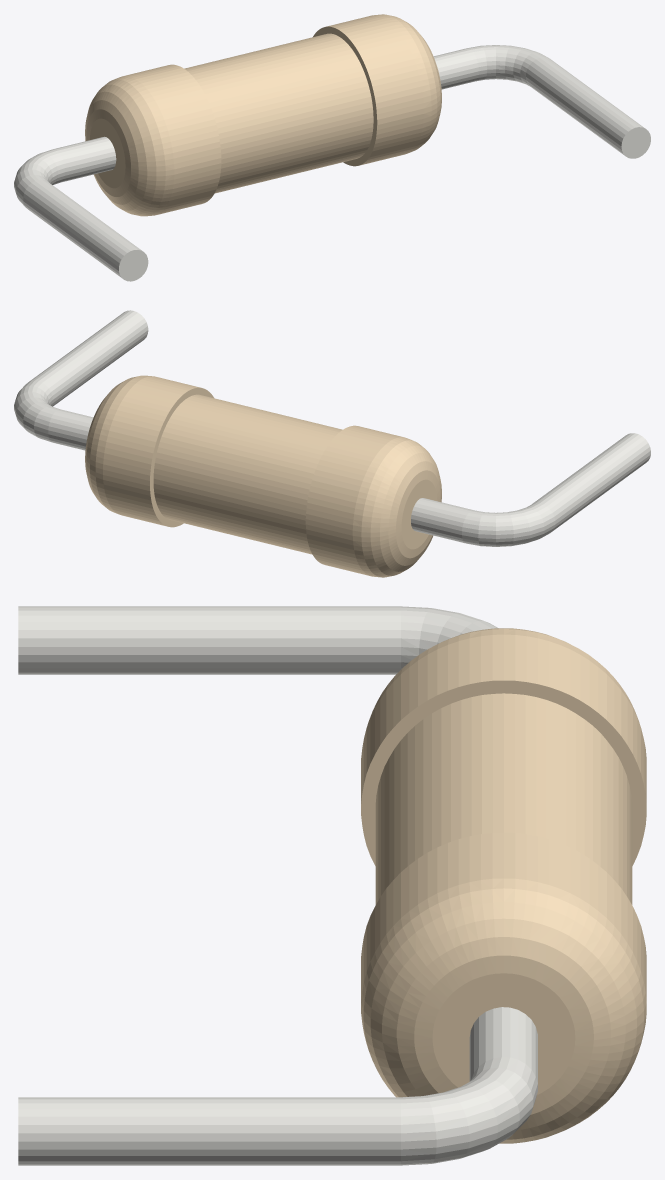
Rendered from R_Axial_DIN0207_L6.3mm_D2.5mm_P10.16mm_Horizontal.glb.
3 renders of one model, top to bottom at view 1: azimuth 30°, elevation 25°; view 2: azimuth 150°, elevation 25°; view 3: azimuth 270°, elevation 25°, orthographic. The views are drawn at different scales.
Visible parts, largest first — view 1: Shape_IndexedFaceSet.004, Shape_IndexedFaceSet.010, Shape_IndexedFaceSet, Shape_IndexedFaceSet.008, Shape_IndexedFaceSet.015, Shape_IndexedFaceSet.009, Shape_IndexedFaceSet.001, Shape_IndexedFaceSet.007, Shape_IndexedFaceSet.013, Shape_IndexedFaceSet.014, Shape_IndexedFaceSet.005, Shape_IndexedFaceSet.012 (+3 smaller); view 2: Shape_IndexedFaceSet.004, Shape_IndexedFaceSet.010, Shape_IndexedFaceSet.008, Shape_IndexedFaceSet, Shape_IndexedFaceSet.009, Shape_IndexedFaceSet.015, Shape_IndexedFaceSet.014, Shape_IndexedFaceSet.001, Shape_IndexedFaceSet.013, Shape_IndexedFaceSet.007, Shape_IndexedFaceSet.005, Shape_IndexedFaceSet.012 (+1 smaller); view 3: Shape_IndexedFaceSet.001, Shape_IndexedFaceSet.004, Shape_IndexedFaceSet.009, Shape_IndexedFaceSet.015, Shape_IndexedFaceSet, Shape_IndexedFaceSet.008, Shape_IndexedFaceSet.007, Shape_IndexedFaceSet.003, Shape_IndexedFaceSet.006, Shape_IndexedFaceSet.005, Shape_IndexedFaceSet.014, Shape_IndexedFaceSet.010.
Part boxes in pixels (x1,y1,x2,y2): Shape_IndexedFaceSet.004: (184, 33, 373, 193); Shape_IndexedFaceSet.010: (85, 76, 174, 216); Shape_IndexedFaceSet: (325, 15, 424, 165); Shape_IndexedFaceSet.008: (123, 64, 221, 214); Shape_IndexedFaceSet.015: (23, 179, 141, 278); Shape_IndexedFaceSet.009: (525, 57, 644, 155); Shape_IndexedFaceSet.001: (375, 14, 441, 152); Shape_IndexedFaceSet.007: (467, 45, 548, 85); Shape_IndexedFaceSet.013: (53, 136, 116, 181); Shape_IndexedFaceSet.014: (14, 149, 65, 206); Shape_IndexedFaceSet.005: (433, 48, 478, 89); Shape_IndexedFaceSet.012: (90, 118, 125, 188); Shape_IndexedFaceSet.004: (153, 394, 342, 554); Shape_IndexedFaceSet.010: (352, 437, 441, 577); Shape_IndexedFaceSet.008: (305, 425, 403, 576); Shape_IndexedFaceSet: (103, 376, 201, 526); Shape_IndexedFaceSet.009: (29, 310, 148, 406); Shape_IndexedFaceSet.015: (532, 433, 650, 531); Shape_IndexedFaceSet.014: (462, 503, 555, 546); Shape_IndexedFaceSet.001: (85, 375, 151, 514); Shape_IndexedFaceSet.013: (411, 498, 473, 543); Shape_IndexedFaceSet.007: (14, 380, 59, 442); Shape_IndexedFaceSet.005: (48, 409, 93, 450); Shape_IndexedFaceSet.012: (401, 479, 437, 549); Shape_IndexedFaceSet.001: (361, 878, 646, 1143); Shape_IndexedFaceSet.004: (375, 693, 632, 904); Shape_IndexedFaceSet.009: (18, 1097, 400, 1165); Shape_IndexedFaceSet.015: (18, 606, 400, 674); Shape_IndexedFaceSet: (361, 832, 646, 1001); Shape_IndexedFaceSet.008: (361, 634, 646, 803); Shape_IndexedFaceSet.007: (401, 1057, 537, 1165); Shape_IndexedFaceSet.003: (432, 973, 575, 1094); Shape_IndexedFaceSet.006: (361, 680, 646, 865); Shape_IndexedFaceSet.005: (469, 1007, 537, 1083); Shape_IndexedFaceSet.014: (401, 606, 498, 669); Shape_IndexedFaceSet.010: (367, 628, 639, 724).
Size of the model in its own units: 4.23 by 0.984 by 2.17.
